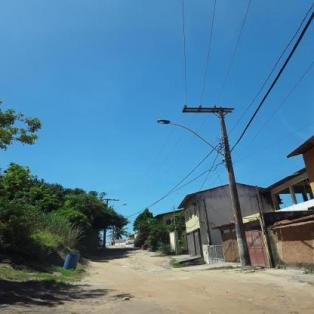Poste: (213, 105, 253, 267)
